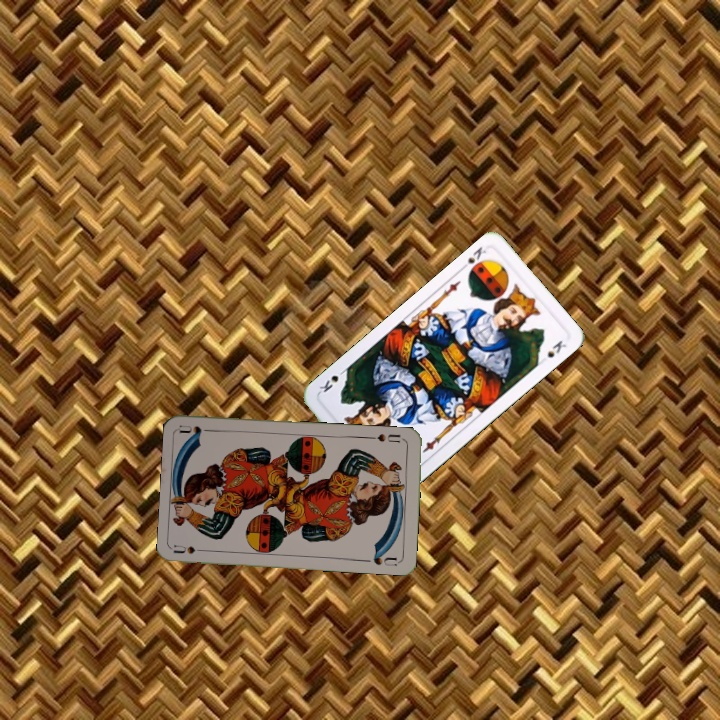SK: (456, 242, 489, 273)
SU: (171, 540, 212, 556), (366, 430, 407, 445)
